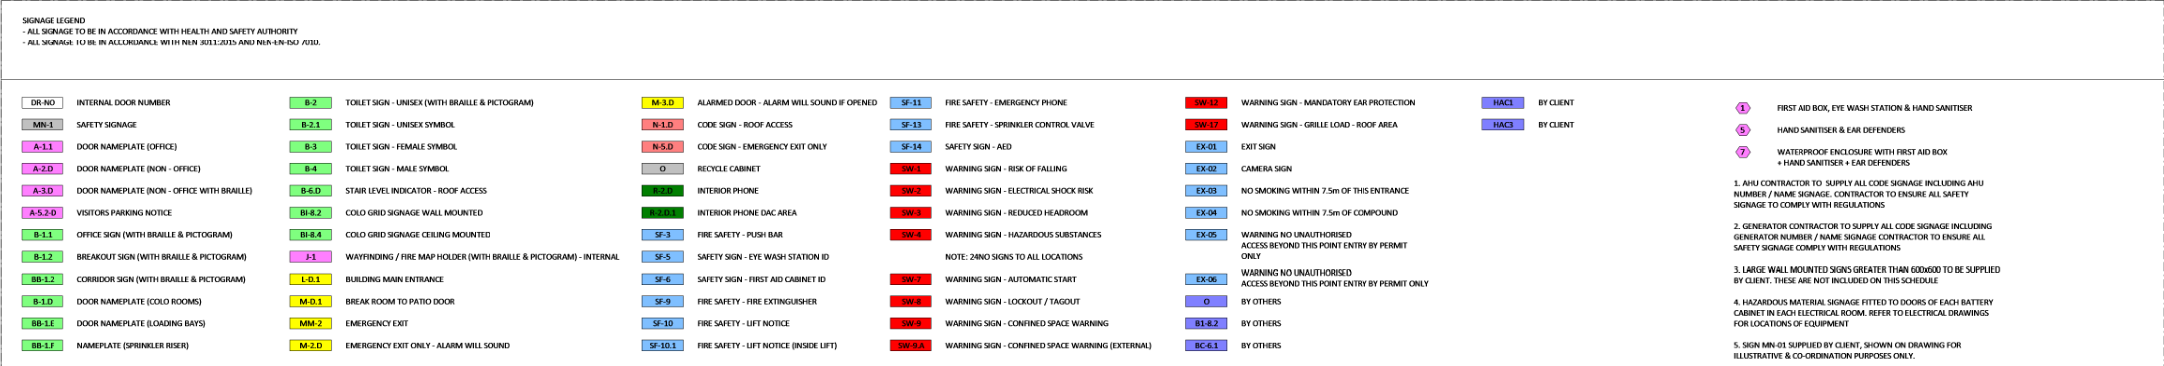hatch: (1180, 135, 1232, 156), (284, 311, 335, 331), (1177, 269, 1230, 289), (887, 202, 936, 222), (17, 246, 68, 265), (284, 159, 338, 177), (283, 203, 337, 221), (286, 269, 335, 289), (636, 314, 686, 333), (887, 137, 937, 156), (639, 290, 687, 309), (1180, 113, 1228, 133), (636, 137, 687, 155), (886, 225, 937, 243), (1177, 94, 1232, 110), (18, 269, 65, 289), (287, 180, 334, 199), (286, 225, 333, 244), (639, 93, 686, 112), (18, 336, 68, 354), (282, 336, 335, 352), (638, 203, 687, 221), (883, 293, 933, 311), (883, 160, 936, 177), (1180, 337, 1232, 354), (1475, 116, 1528, 133), (15, 115, 63, 133), (18, 159, 66, 177), (19, 181, 68, 199), (18, 225, 66, 243), (287, 93, 335, 110), (639, 247, 687, 265), (1181, 182, 1230, 200), (1181, 225, 1230, 243), (640, 224, 685, 243), (887, 269, 934, 287), (1183, 160, 1230, 178), (17, 94, 66, 110), (636, 182, 686, 199), (638, 336, 687, 352), (886, 181, 936, 198), (887, 315, 933, 333), (1181, 314, 1227, 331), (19, 315, 68, 331), (639, 115, 687, 131), (638, 271, 686, 287), (1181, 293, 1230, 309), (635, 160, 687, 175), (18, 138, 65, 155), (19, 293, 66, 309), (287, 116, 334, 133), (887, 116, 934, 133), (284, 138, 335, 153), (284, 293, 335, 308), (21, 203, 63, 221), (288, 249, 334, 265), (1181, 204, 1227, 221), (1479, 95, 1528, 110), (889, 337, 936, 352), (887, 97, 934, 110), (1731, 120, 1757, 138), (1731, 142, 1757, 160), (1732, 99, 1754, 116)
label: (1235, 227, 1413, 261), (1238, 267, 1433, 293), (341, 246, 622, 264), (1771, 139, 1953, 167), (1775, 98, 1980, 117), (940, 337, 1159, 354), (937, 312, 1117, 331), (72, 247, 250, 267), (693, 94, 879, 112), (1235, 203, 1406, 222), (341, 94, 540, 110), (1238, 93, 1420, 110), (1238, 181, 1416, 199), (340, 336, 513, 354), (72, 182, 258, 199), (69, 271, 254, 287), (340, 203, 494, 222), (940, 225, 1104, 243), (691, 269, 836, 289), (72, 228, 235, 244), (941, 116, 1101, 133), (938, 269, 1081, 287), (340, 181, 493, 198), (941, 291, 1093, 308), (1237, 116, 1401, 131), (940, 93, 1078, 110), (941, 160, 1074, 178), (693, 247, 835, 264), (940, 204, 1094, 220), (1772, 120, 1913, 137), (690, 336, 842, 351), (342, 137, 461, 156), (69, 293, 206, 309), (693, 139, 829, 156), (694, 291, 820, 309), (341, 291, 464, 309), (73, 315, 217, 330), (340, 115, 461, 133), (341, 269, 462, 287), (70, 163, 213, 178), (340, 227, 495, 240), (940, 185, 1096, 199), (72, 337, 200, 354), (691, 115, 795, 134), (73, 137, 184, 155), (72, 95, 188, 112), (340, 160, 460, 174), (691, 204, 800, 220), (689, 314, 796, 329), (72, 207, 178, 221), (943, 137, 1016, 155), (689, 228, 792, 240), (340, 316, 420, 331), (696, 182, 767, 199), (690, 160, 763, 174), (69, 116, 139, 130), (1235, 314, 1289, 331), (1531, 94, 1583, 112), (1235, 160, 1297, 174), (1235, 138, 1290, 153), (1237, 296, 1286, 311), (1238, 336, 1288, 351), (1533, 116, 1577, 133)
